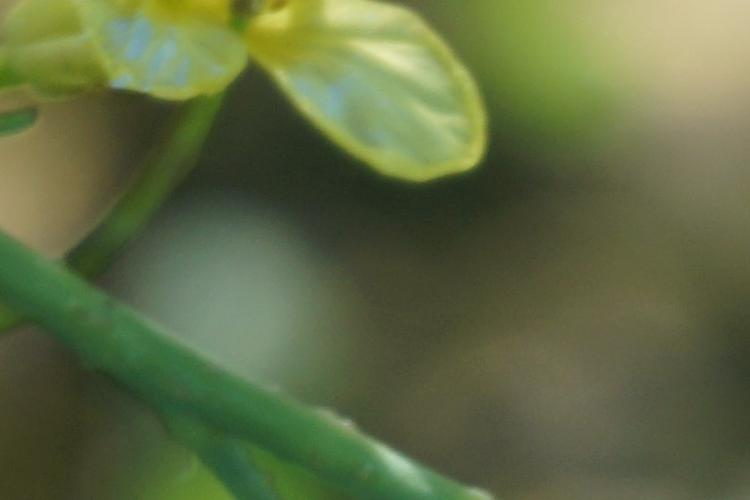yellow: (48, 1, 496, 185)
